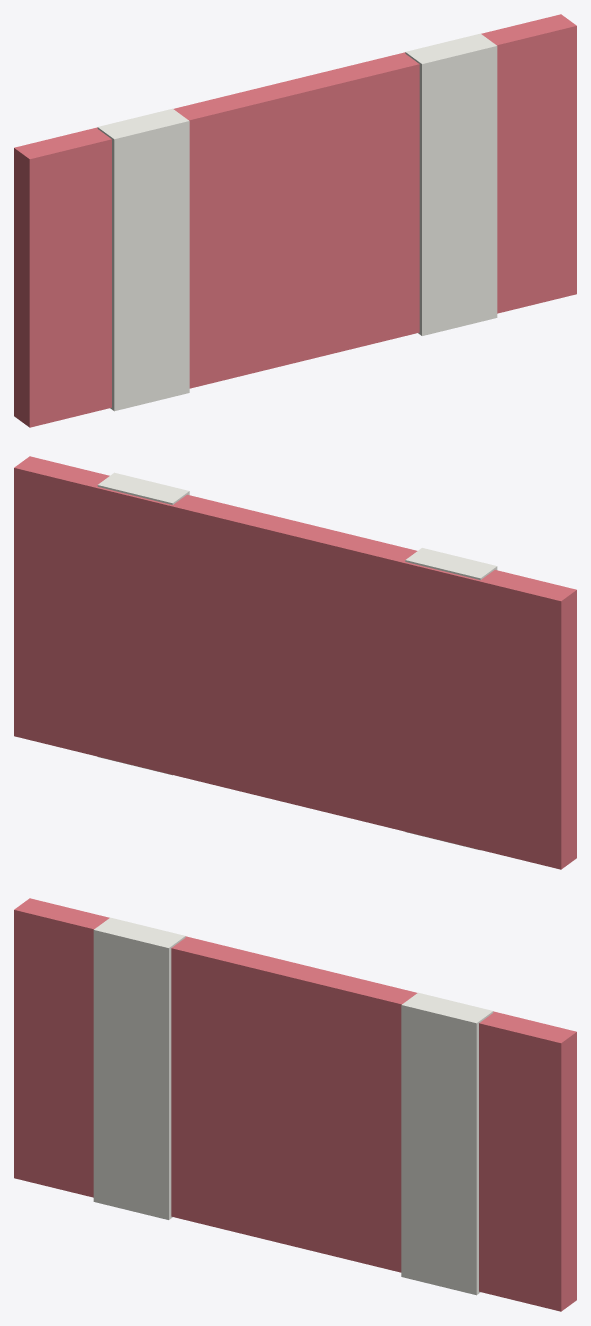
File: building_shop_awning_red.glb
The picture shows the model from 3 angles, top to bottom: view 1: azimuth 30°, elevation 25°; view 2: azimuth 150°, elevation 25°; view 3: azimuth 330°, elevation 25°; orthographic projection.
Visible parts, largest first — view 1: awning_panel, awning_stripe_2, awning_stripe_1; view 2: awning_panel, awning_stripe_2, awning_stripe_1; view 3: awning_panel, awning_stripe_1, awning_stripe_2.
Boxes of the visible parts, box(x1,y1,x2,y2) form: awning_panel: box(14, 14, 576, 427); awning_stripe_2: box(405, 33, 497, 335); awning_stripe_1: box(97, 108, 189, 411); awning_panel: box(14, 456, 576, 869); awning_stripe_2: box(97, 472, 189, 775); awning_stripe_1: box(405, 548, 497, 850); awning_panel: box(14, 898, 576, 1311); awning_stripe_1: box(93, 917, 185, 1219); awning_stripe_2: box(401, 992, 493, 1295).
Size of the model in its own units: 1.6 by 0.76 by 0.0925.
